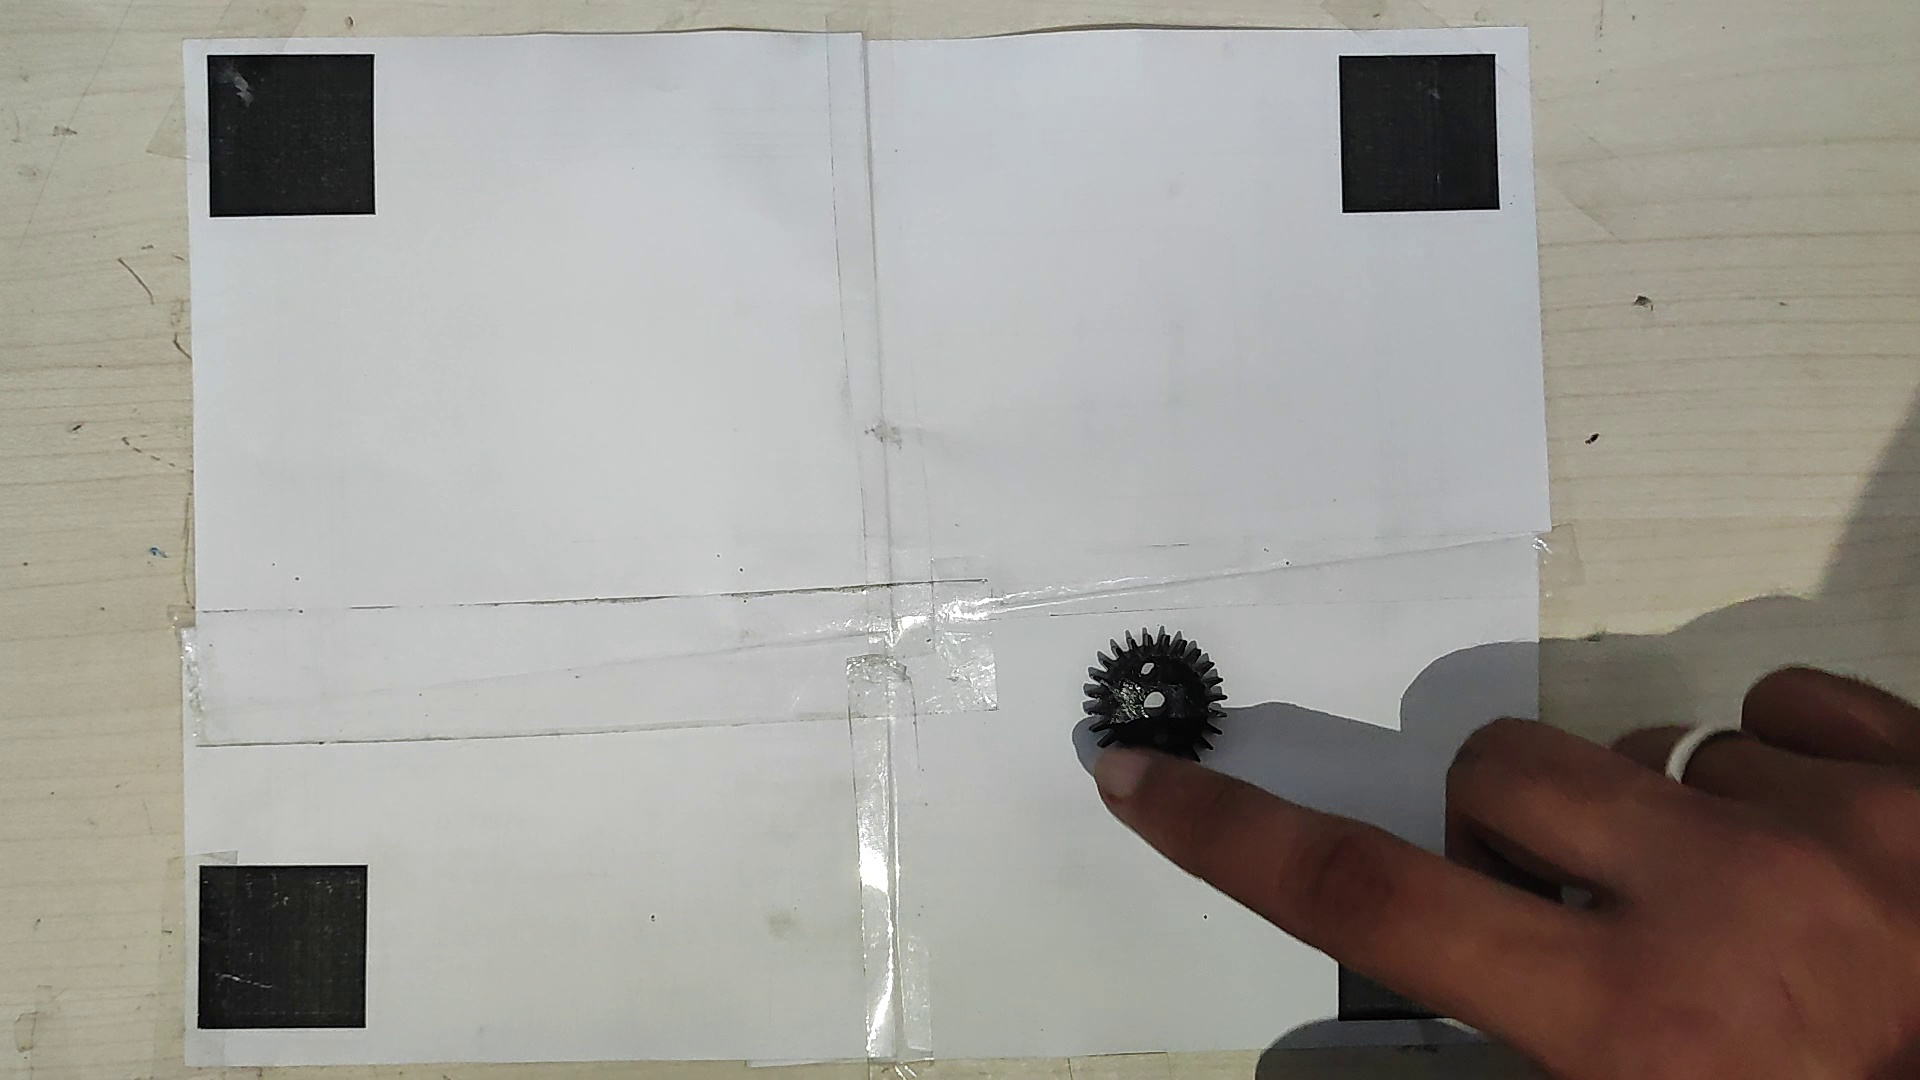Gear: (1076, 626, 1232, 782)
